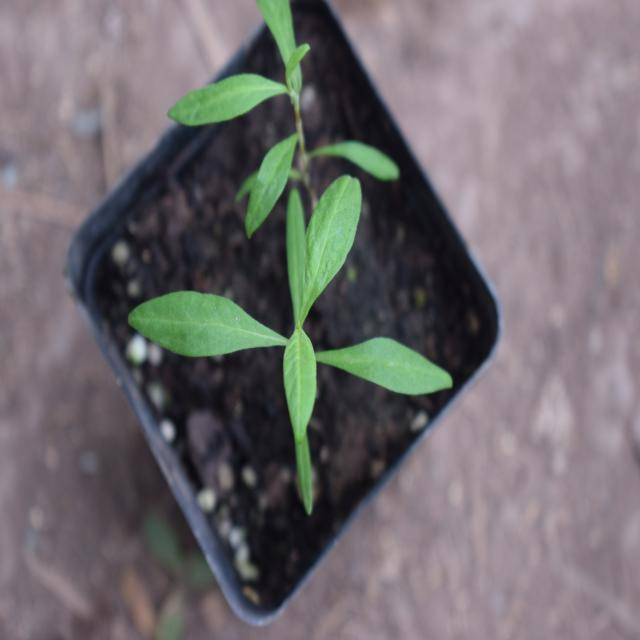white_smart_weed: (148, 184, 452, 510), (177, 0, 389, 234)
